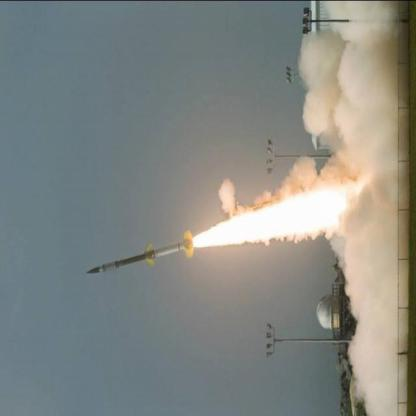MIL_TBM: (84, 230, 199, 276)
